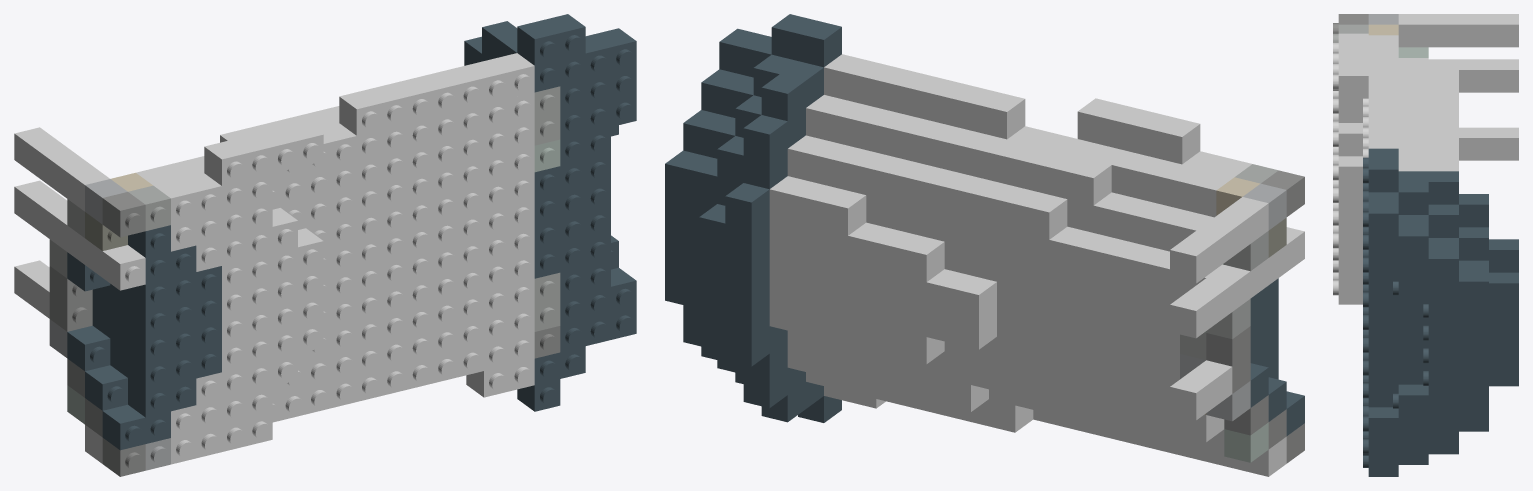
The model's file is full.glb.
3 renders of one model, left to right at view 1: azimuth 30°, elevation 25°; view 2: azimuth 150°, elevation 25°; view 3: azimuth 270°, elevation 25°, orthographic. The views are drawn at different scales.
Visible parts, largest first — view 1: world; view 2: world; view 3: world.
Part boxes in pixels (x1,y1,x2,y2): world: [14, 14, 636, 476]; world: [665, 14, 1304, 476]; world: [1333, 14, 1518, 476].
Bounding box in the file's own units: 168 × 112 × 59.4.
